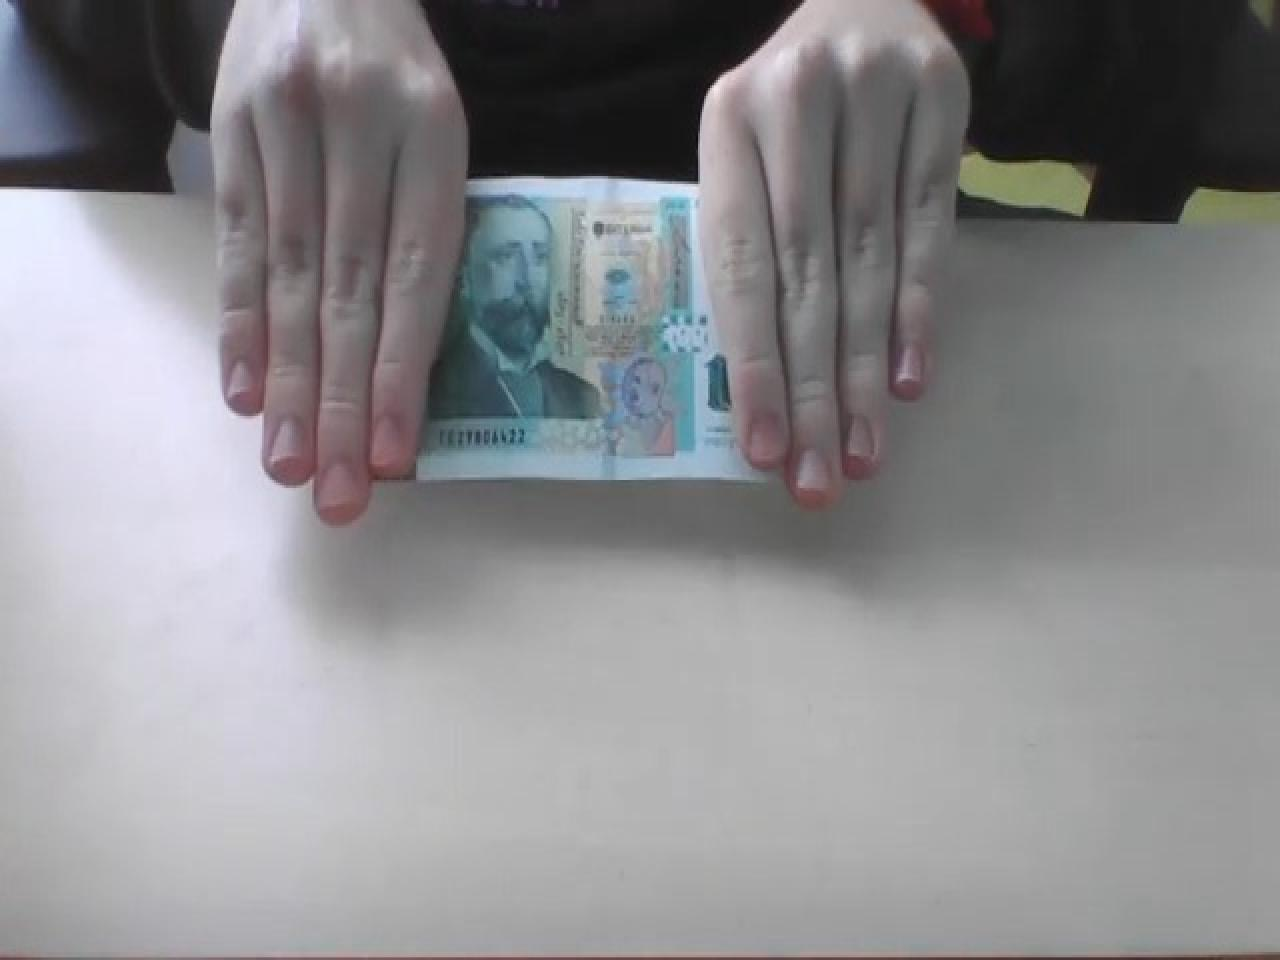100leva: (410, 178, 754, 480), (426, 190, 604, 424)
